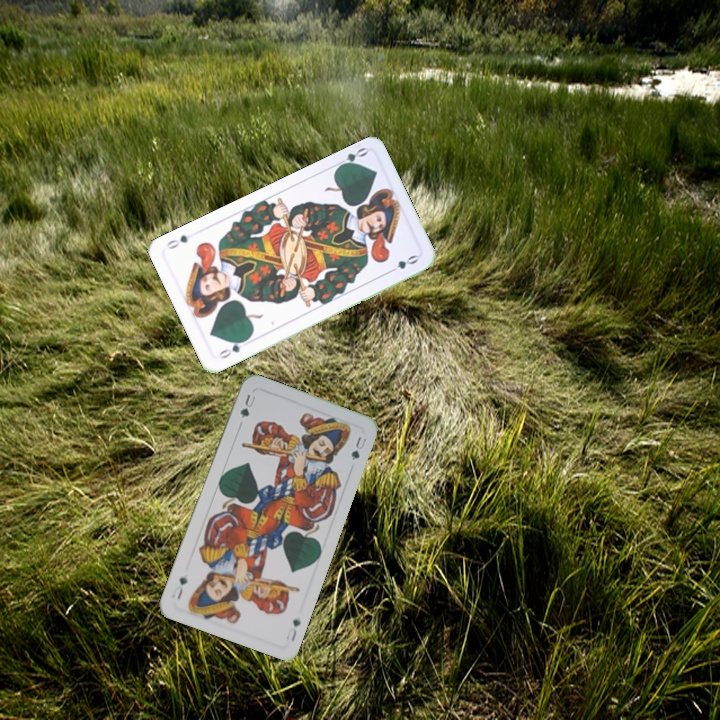GO: (331, 143, 370, 171), (214, 335, 250, 361)
GU: (236, 390, 258, 422), (282, 615, 303, 644)
